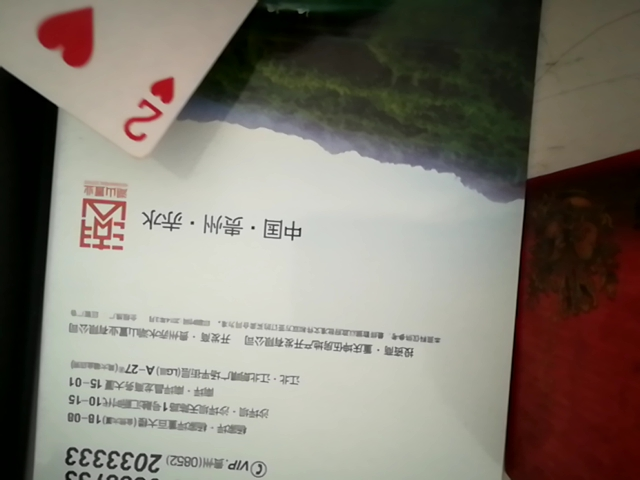hx 2: (1, 0, 351, 167)
